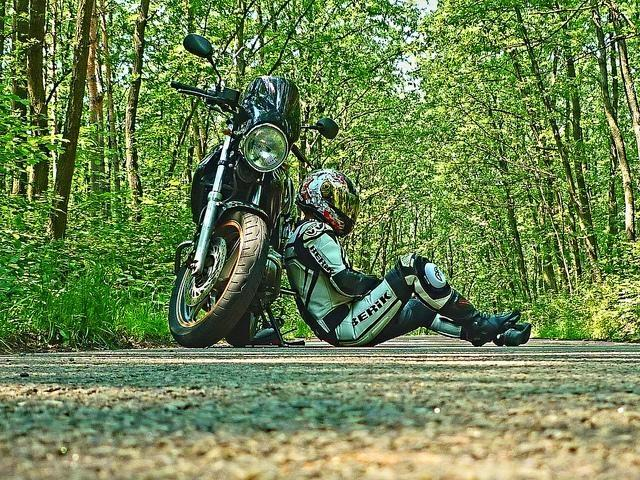motorcycle: (162, 31, 340, 350)
